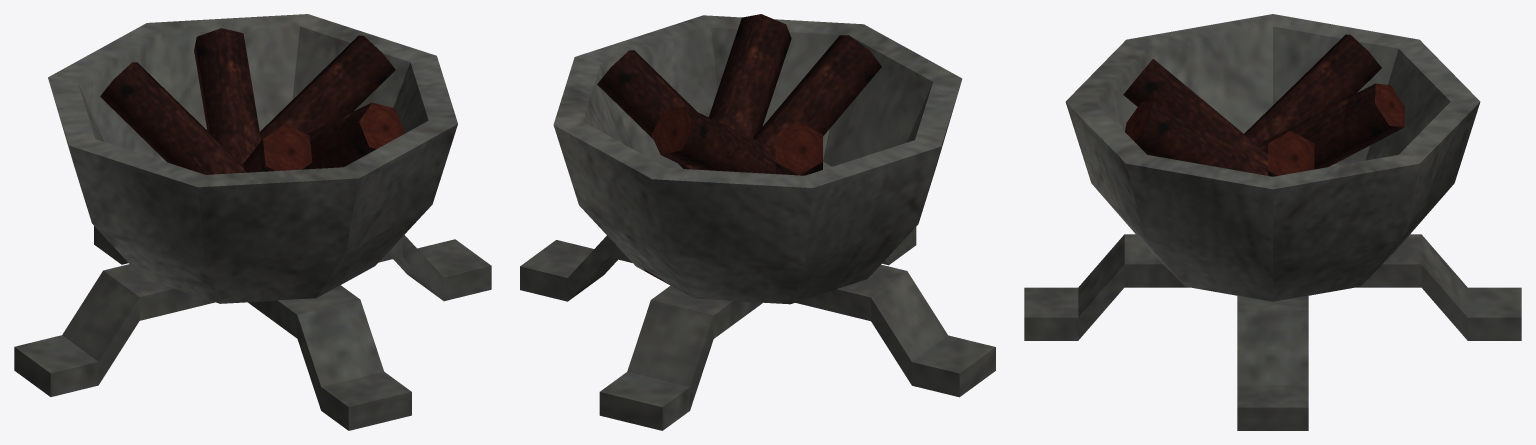
File: Torch_C.FBX
The picture shows the model from 3 angles, left to right: view 1: azimuth 30°, elevation 25°; view 2: azimuth 150°, elevation 25°; view 3: azimuth 270°, elevation 25°; orthographic projection. The views are drawn at different scales.
Visible parts, largest first — view 1: Cylinder044; view 2: Cylinder044; view 3: Cylinder044.
Boxes of the visible parts, x1,y1,x2,y2 form: Cylinder044: [14, 14, 491, 430]; Cylinder044: [520, 14, 995, 430]; Cylinder044: [1024, 14, 1521, 430].
Bounding box in the file's own units: 78.43 × 43.92 × 78.43.
Materials: 1 (1 with a texture image).
